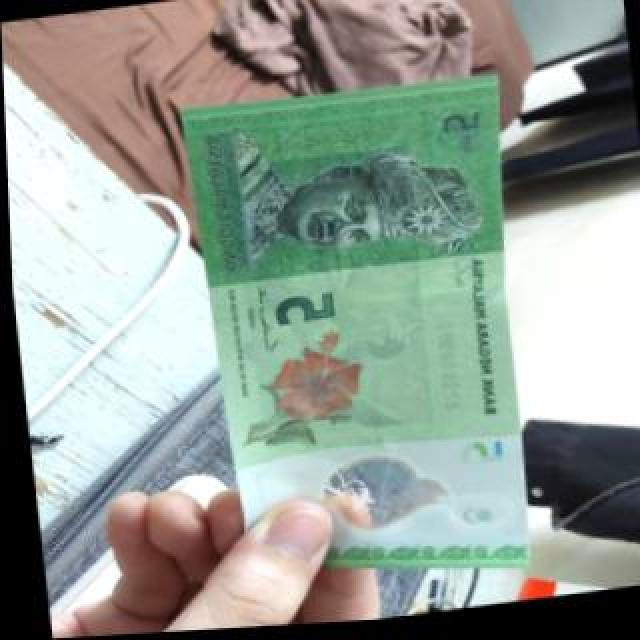5 Ringgit: (182, 70, 550, 610)
